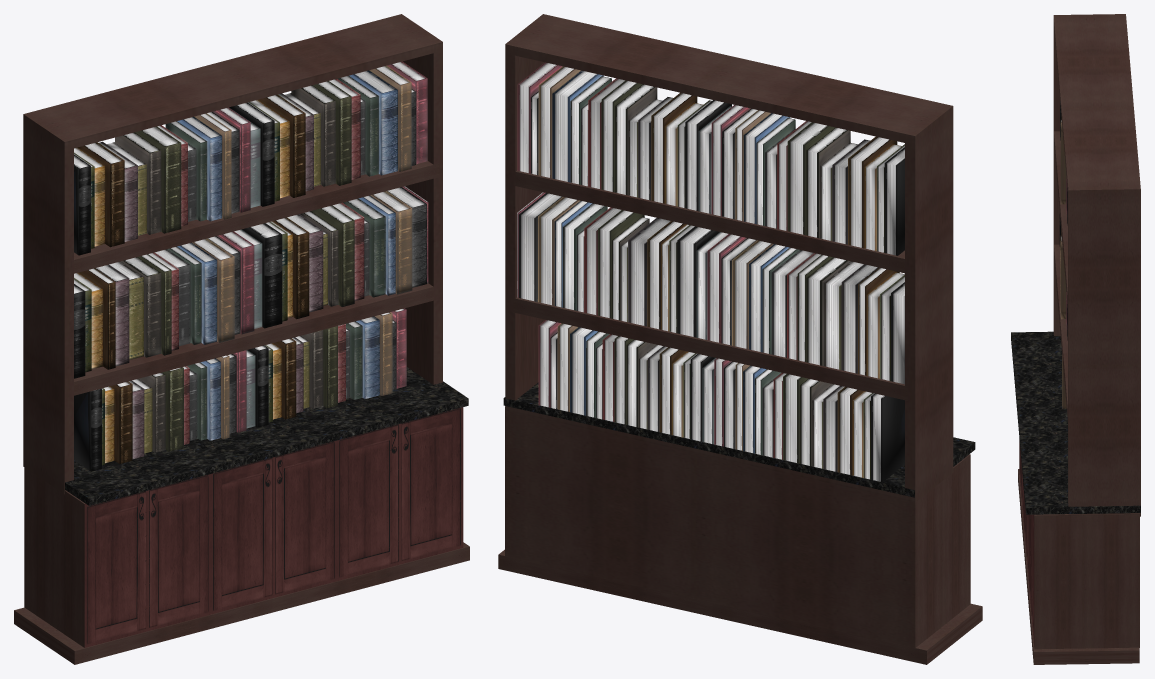
File: bookshelf_dark.fbx
3 renders of one model, left to right at view 1: azimuth 30°, elevation 25°; view 2: azimuth 150°, elevation 25°; view 3: azimuth 270°, elevation 25°, orthographic. The views are drawn at different scales.
Parts seen in each view (by area): view 1: cabinets, frame, books_top, books_mid, books_btm, btmshelf, base, topshelf, midshelf; view 2: cabinets, frame, books_top, books_mid, books_btm, base, midshelf, topshelf, btmshelf; view 3: frame, cabinets, btmshelf, base, topshelf, midshelf, books_mid, books_top.
Boxes of the visible parts, x1,y1,x2,y2 form: cabinets: (24,407,463,647); frame: (23,14,442,494); books_top: (74,61,427,255); books_mid: (74,186,428,378); books_btm: (74,308,406,471); btmshelf: (65,367,468,505); base: (14,542,469,664); topshelf: (74,161,439,273); midshelf: (74,283,433,395); cabinets: (505,406,970,648); frame: (505,14,953,502); books_top: (517,62,904,255); books_mid: (517,192,904,384); books_btm: (538,320,904,482); base: (498,549,982,664); midshelf: (513,297,907,400); topshelf: (515,170,904,273); btmshelf: (503,382,975,497); frame: (1053,14,1140,516); cabinets: (1019,439,1139,649); btmshelf: (1011,331,1140,514); base: (1018,469,1139,664); topshelf: (1054,131,1068,311); midshelf: (1054,244,1067,420); books_mid: (1059,214,1067,340); books_top: (1060,101,1067,225).
Bounding box in the file's own units: 361 × 429 × 107.
Materials: 20 (20 with a texture image).
